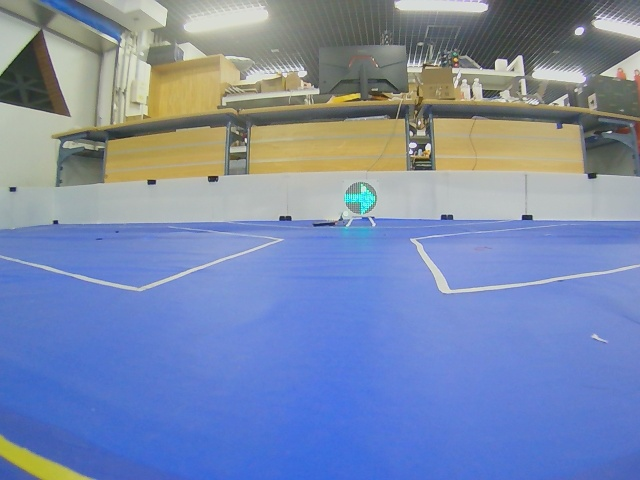right_green: (344, 181, 377, 216)
